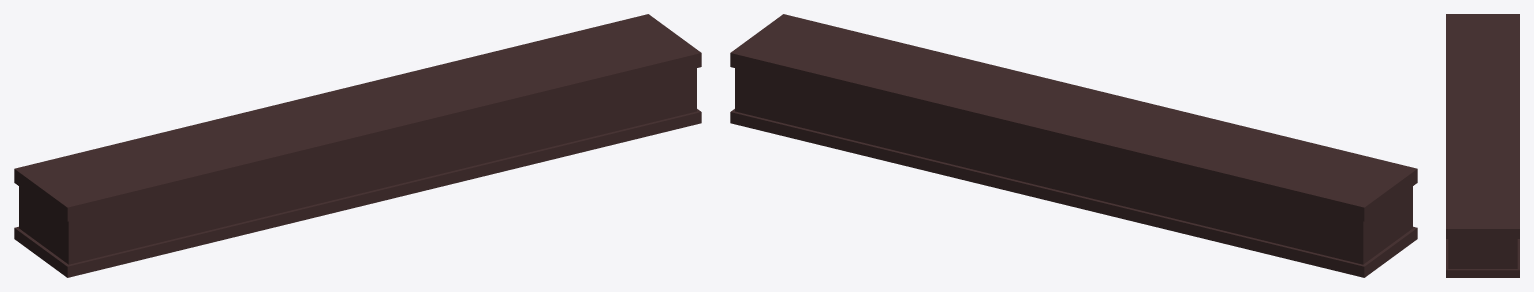
File: CrossbarBlockout.fbx
The picture shows the model from 3 angles, left to right: view 1: azimuth 30°, elevation 25°; view 2: azimuth 150°, elevation 25°; view 3: azimuth 270°, elevation 25°; orthographic projection. The views are drawn at different scales.
Parts seen in each view (by area): view 1: CrossbarBlockout; view 2: CrossbarBlockout; view 3: CrossbarBlockout.
Boxes of the visible parts, left/top/right/bottom form: CrossbarBlockout: left=14, top=14, right=701, bottom=277; CrossbarBlockout: left=730, top=14, right=1417, bottom=277; CrossbarBlockout: left=1446, top=14, right=1519, bottom=277.
Bounding box in the file's own units: 527 × 55.88 × 76.61.
